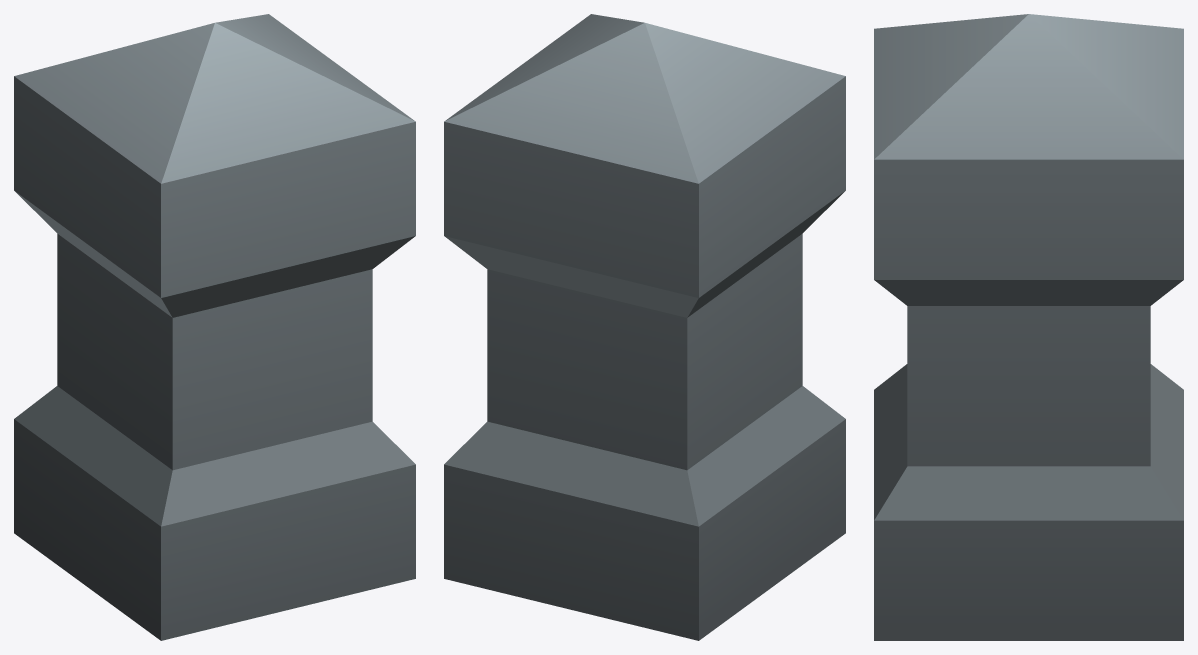
Rendered from column.gltf.
3 views of the same model, side by side, from view 1: azimuth 30°, elevation 25°; view 2: azimuth 150°, elevation 25°; view 3: azimuth 270°, elevation 25° (orthographic). The views are drawn at different scales.
Parts seen in each view (by area): view 1: column; view 2: column; view 3: column.
Boxes of the visible parts, <box> form: column: <box>14,14,415,640</box>; column: <box>444,14,845,640</box>; column: <box>874,14,1183,640</box>.
Bounding box in the file's own units: 0.7 × 1.4 × 0.7.
Materials: 1 (1 with a texture image).
